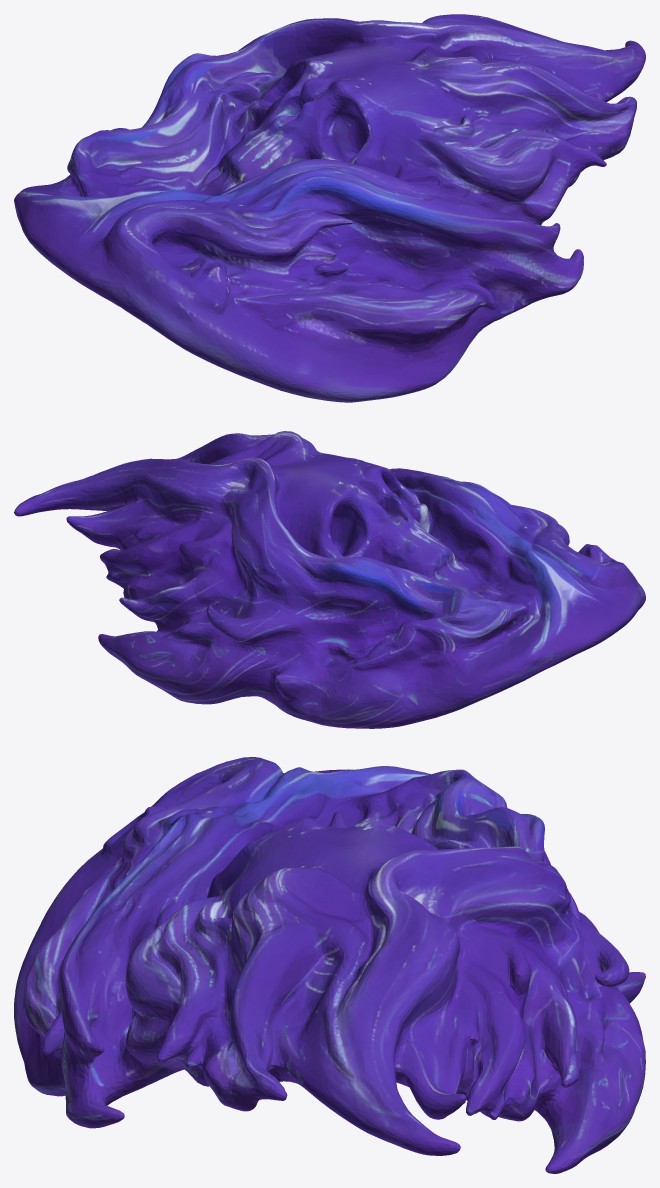
Rendered from purpe-skull-flames.glb.
3 views of the same model, one above another, from view 1: azimuth 30°, elevation 25°; view 2: azimuth 150°, elevation 25°; view 3: azimuth 270°, elevation 25° (orthographic). The views are drawn at different scales.
Parts seen in each view (by area): view 1: purpe skull flames_textured.obj; view 2: purpe skull flames_textured.obj; view 3: purpe skull flames_textured.obj.
Part boxes in pixels (x1=…): purpe skull flames_textured.obj: x1=14, y1=14, x2=645, y2=402; purpe skull flames_textured.obj: x1=14, y1=431, x2=645, y2=728; purpe skull flames_textured.obj: x1=14, y1=757, x2=645, y2=1173.
Bounding box in the file's own units: 1.99 × 0.7017 × 1.36.
1 material, 1 textured.
